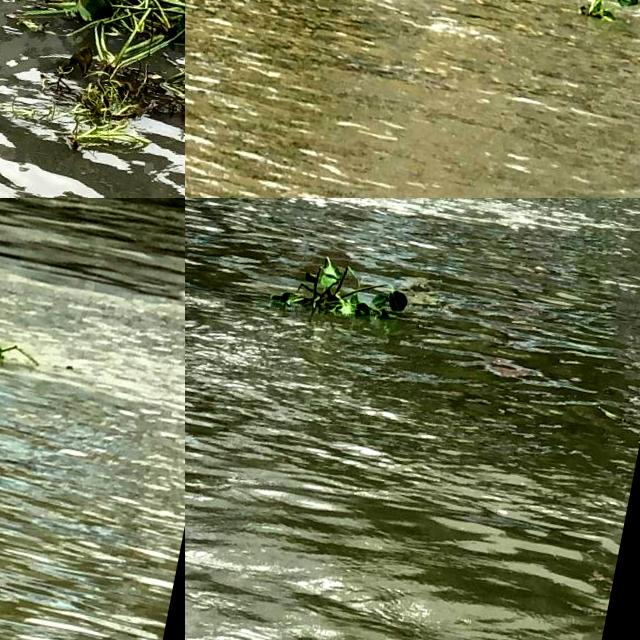water-hyacinth: (1, 1, 186, 199), (265, 243, 419, 343), (570, 1, 640, 33)
